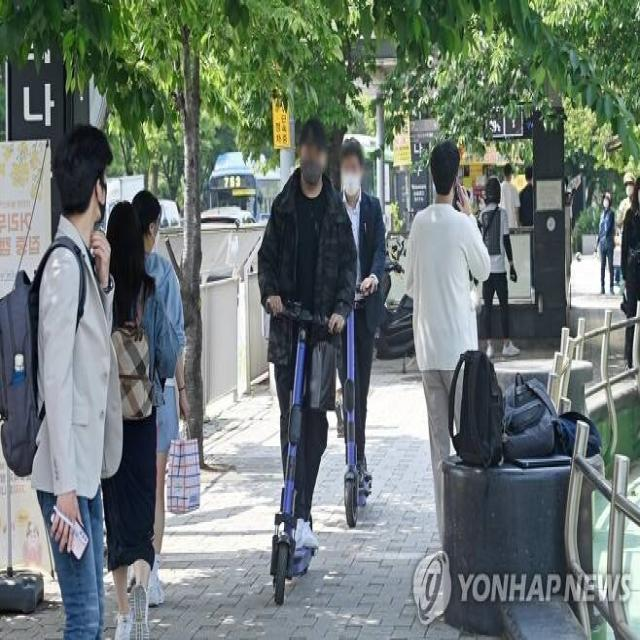non-helmet: (255, 115, 358, 611), (320, 131, 390, 536)
